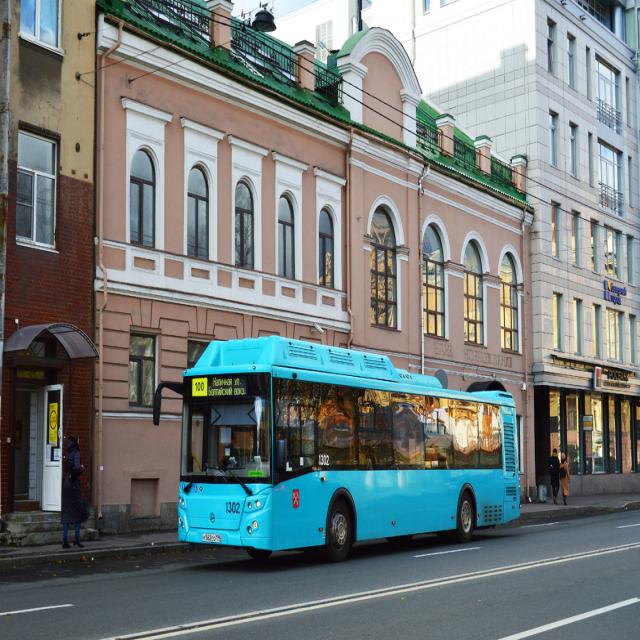number-of-bus: (194, 381, 207, 394)
